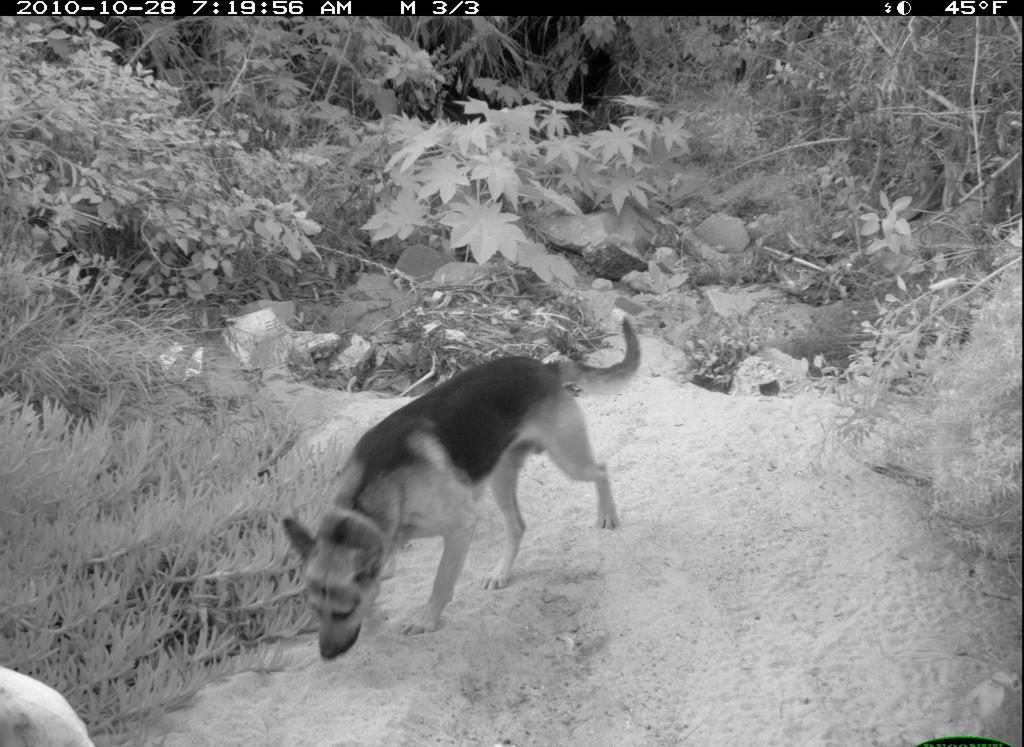dog: (277, 321, 625, 658)
